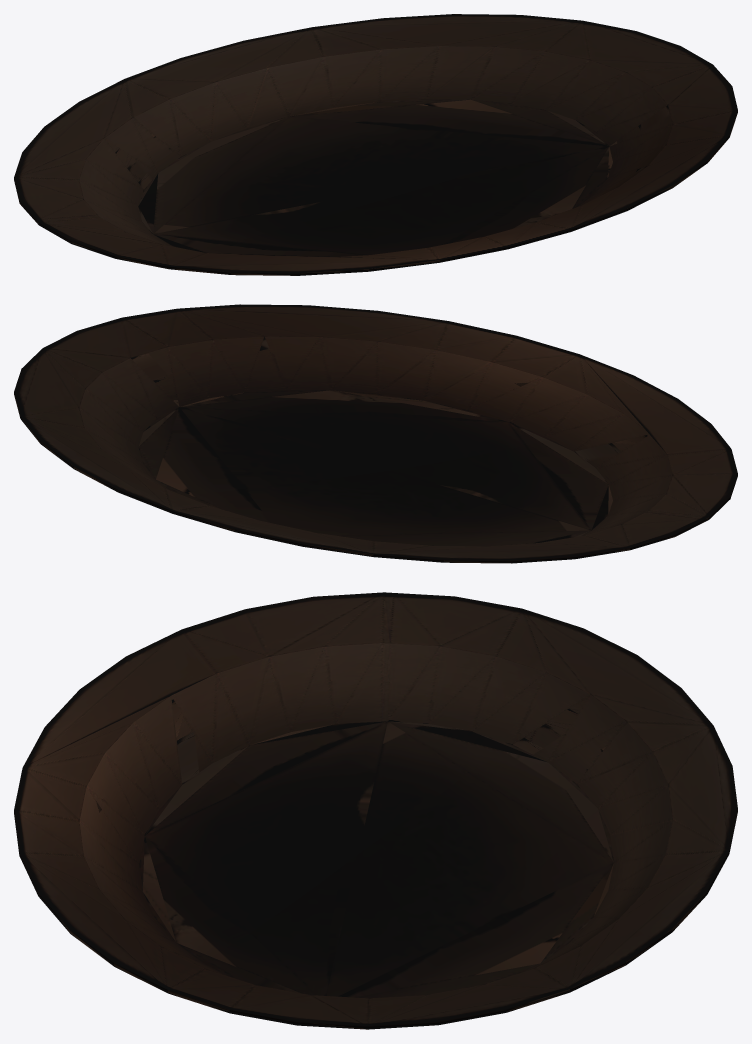
The model's file is stenless_plate3.glb.
The picture shows the model from 3 angles, top to bottom: view 1: azimuth 30°, elevation 25°; view 2: azimuth 150°, elevation 25°; view 3: azimuth 270°, elevation 25°; orthographic projection. The views are drawn at different scales.
Parts seen in each view (by area): view 1: suテンレス; view 2: suテンレス; view 3: suテンレス.
Boxes of the visible parts, x1,y1,x2,y2 form: suテンレス: (14, 14, 737, 275); suテンレス: (14, 304, 737, 563); suテンレス: (14, 592, 737, 1029).
Bounding box in the file's own units: 28.01 × 1.8 × 19.77.
Materials: 1 (1 with a texture image).
